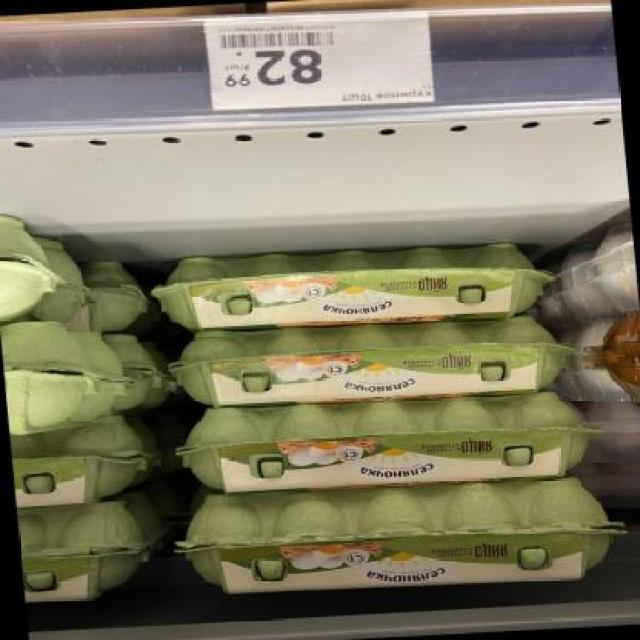egg: (171, 478, 634, 604), (174, 392, 603, 497), (148, 234, 556, 338), (165, 312, 573, 416), (16, 492, 162, 610), (1, 321, 125, 441), (10, 420, 156, 510)
